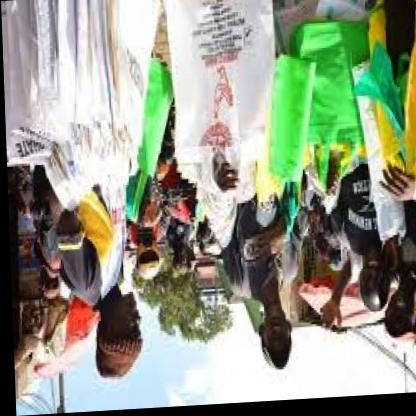Plastic: (280, 0, 416, 255), (142, 0, 303, 202), (0, 0, 144, 216)
